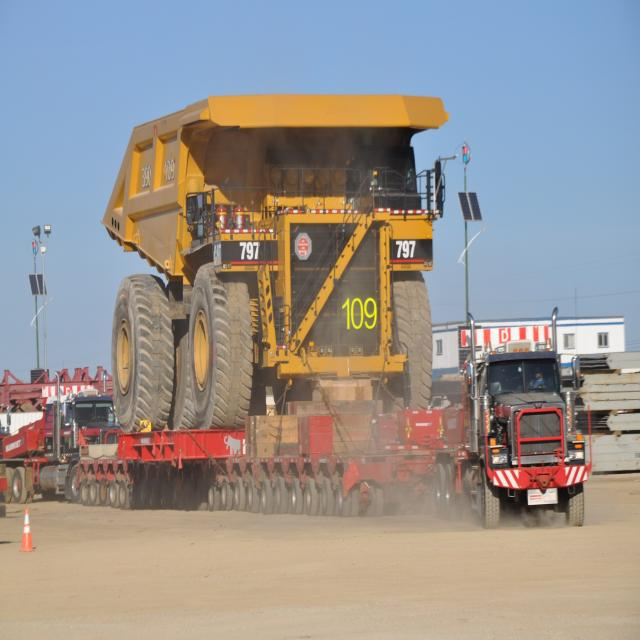dump_truck: (104, 90, 445, 424)
